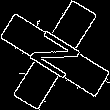N_SE: (23, 25, 87, 85)
